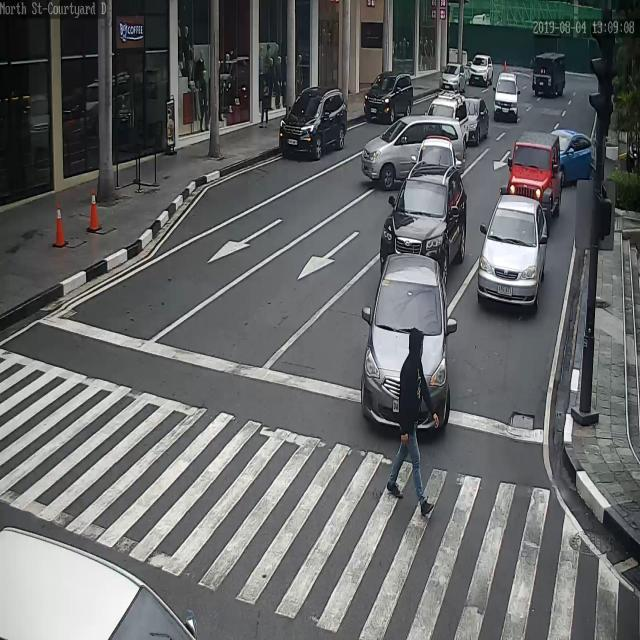bus: (532, 53, 567, 98)
car: (360, 252, 450, 433), (379, 160, 467, 279), (476, 195, 549, 307), (361, 115, 464, 189), (280, 88, 349, 164), (364, 71, 414, 126), (557, 127, 602, 182), (424, 89, 470, 139), (412, 139, 457, 171), (493, 71, 519, 122), (467, 94, 488, 144), (469, 53, 494, 88), (439, 62, 466, 93)
tricycle: (503, 130, 564, 216)
